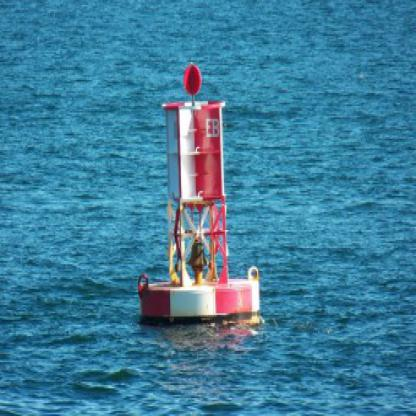buoy: (125, 54, 268, 334)
